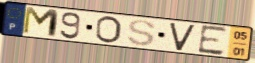9: (60, 12, 83, 40)
E: (196, 24, 230, 57)
M: (21, 5, 62, 40)
O: (94, 15, 123, 45)
S: (126, 18, 158, 47)
V: (168, 22, 197, 52)
